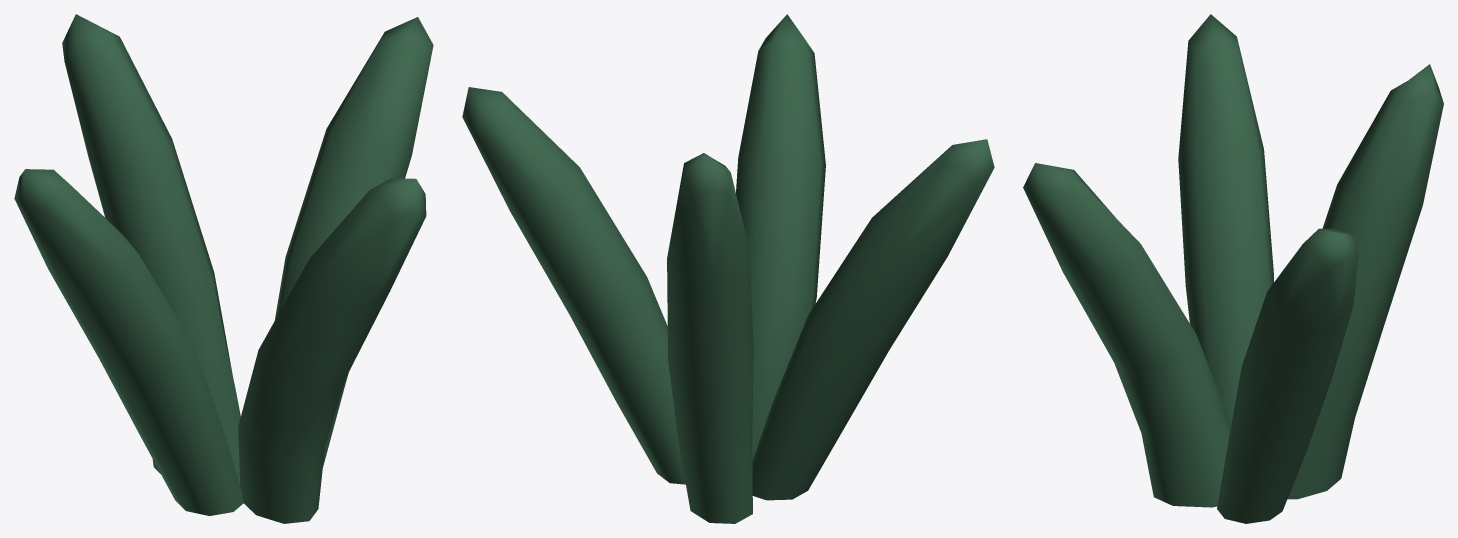
Rendered from zacao.fbx.
3 renders of one model, left to right at view 1: azimuth 30°, elevation 25°; view 2: azimuth 150°, elevation 25°; view 3: azimuth 270°, elevation 25°, orthographic. The views are drawn at different scales.
Parts seen in each view (by area): view 1: Grass_A_03_LOD1_Mat_Nature_0.008; view 2: Grass_A_03_LOD1_Mat_Nature_0.008; view 3: Grass_A_03_LOD1_Mat_Nature_0.008.
Boxes of the visible parts, bbox=[...] form: Grass_A_03_LOD1_Mat_Nature_0.008: bbox=[14, 14, 433, 523]; Grass_A_03_LOD1_Mat_Nature_0.008: bbox=[462, 14, 994, 523]; Grass_A_03_LOD1_Mat_Nature_0.008: bbox=[1023, 14, 1443, 523].
Bounding box in the file's own units: 0.6774 × 0.5766 × 0.5585.
